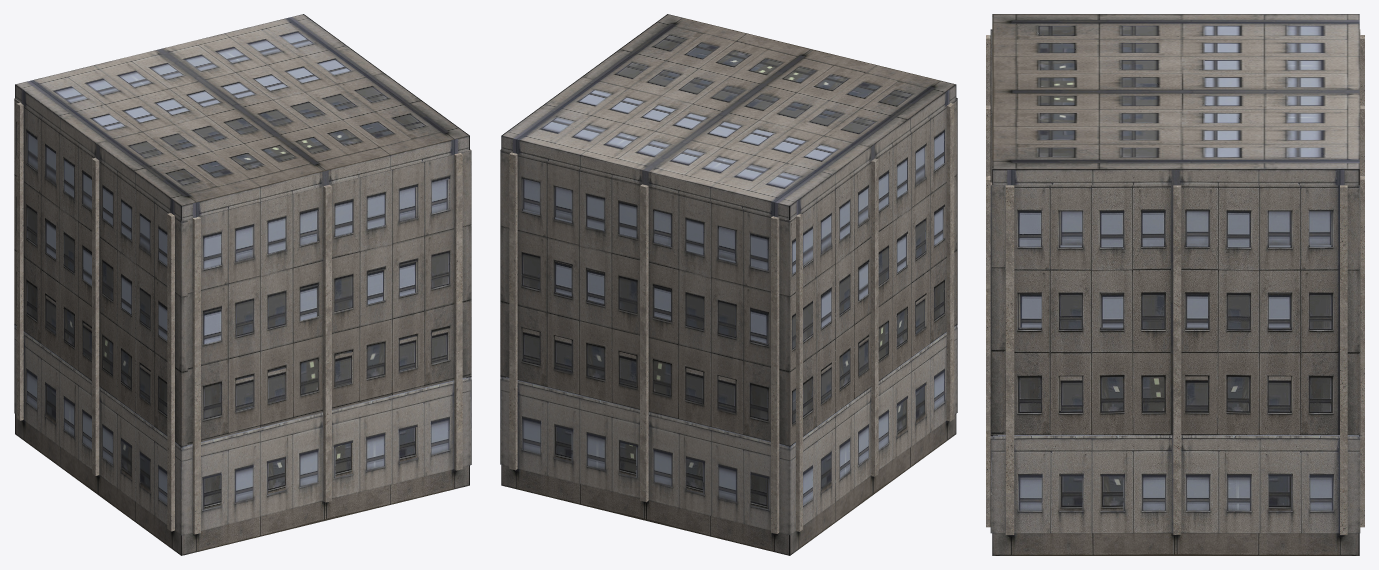
Rendered from BagSS01mid_200.fbx.
3 views of the same model, side by side, from view 1: azimuth 30°, elevation 25°; view 2: azimuth 150°, elevation 25°; view 3: azimuth 270°, elevation 25° (orthographic). The views are drawn at different scales.
Visible parts, largest first — view 1: ma_B200, ma_Box200, ma_A200; view 2: ma_B200, ma_Box200, ma_A200; view 3: ma_B200, ma_Box200, ma_A200.
Part boxes in pixels (left/top/right/bottom): ma_B200: left=14, top=98, right=471, bottom=535; ma_Box200: left=15, top=14, right=469, bottom=555; ma_A200: left=16, top=103, right=462, bottom=534; ma_B200: left=500, top=98, right=957, bottom=534; ma_Box200: left=501, top=14, right=956, bottom=555; ma_A200: left=509, top=103, right=954, bottom=533; ma_B200: left=990, top=29, right=1360, bottom=533; ma_Box200: left=992, top=14, right=1359, bottom=555; ma_A200: left=986, top=35, right=1364, bottom=534.
Size of the model in its own units: 17.99 by 20.24 by 17.99.
